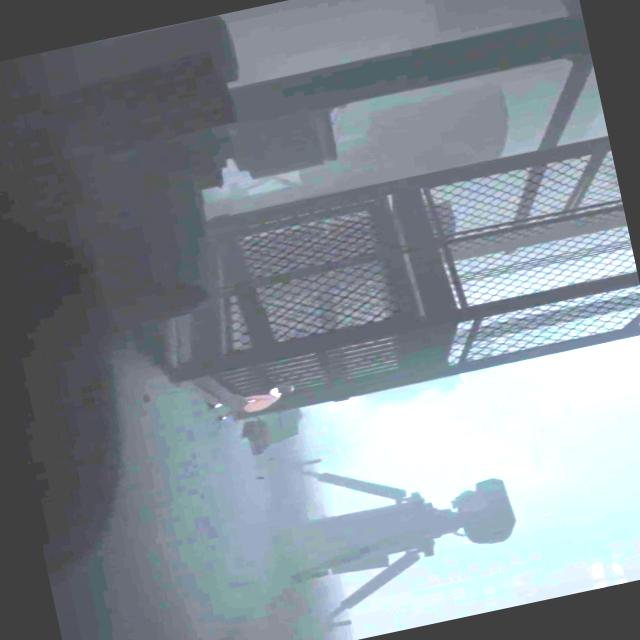boy: (210, 383, 296, 425)
